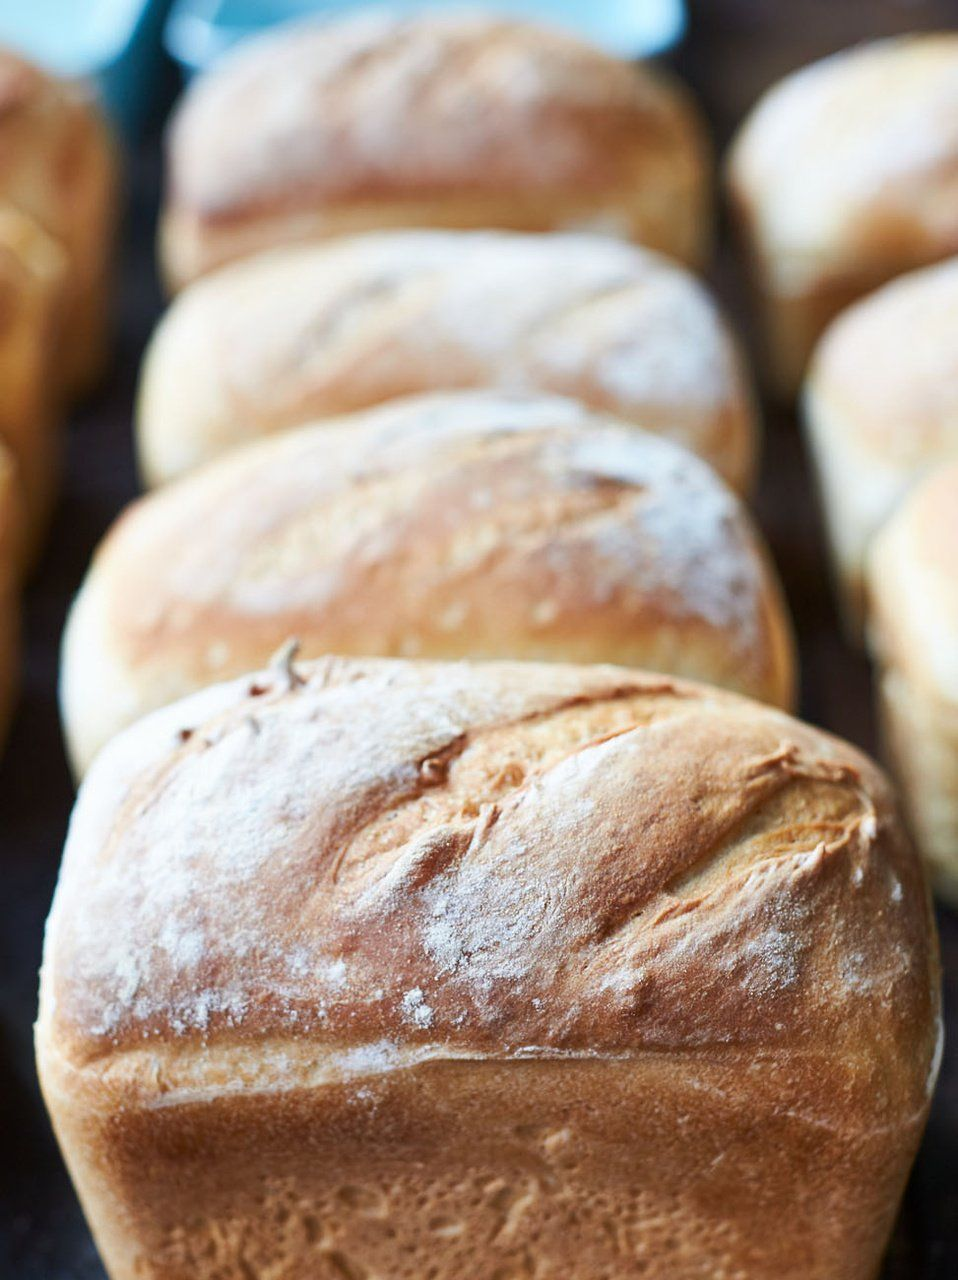Bread: (50, 629, 935, 1270), (5, 388, 806, 709), (100, 228, 747, 439)
